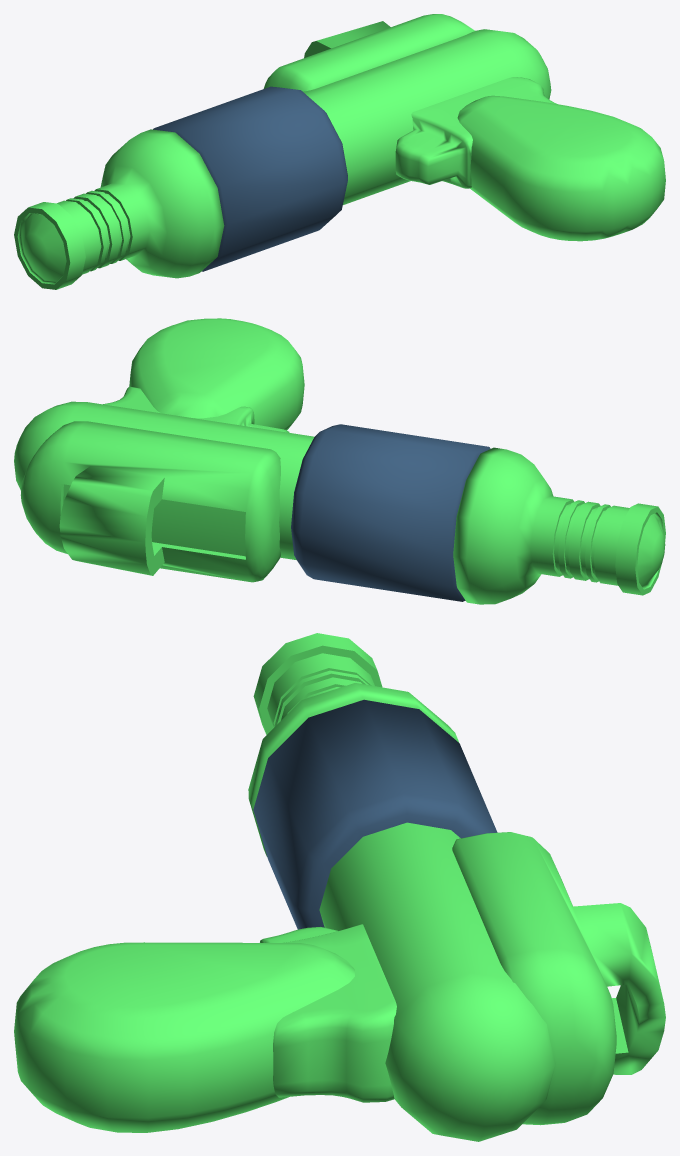
The model's file is ToyObject_051.fbx.
3 views of the same model, one above another, from view 1: azimuth 30°, elevation 25°; view 2: azimuth 150°, elevation 25°; view 3: azimuth 270°, elevation 25° (orthographic). The views are drawn at different scales.
Visible parts, largest first — view 1: object-1.027; view 2: object-1.027; view 3: object-1.027.
Boxes of the visible parts, x1,y1,x2,y2 form: object-1.027: (14, 14, 665, 289); object-1.027: (14, 318, 665, 604); object-1.027: (14, 633, 665, 1141).
Bounding box in the file's own units: 0.1791 × 0.0418 × 0.1212.
